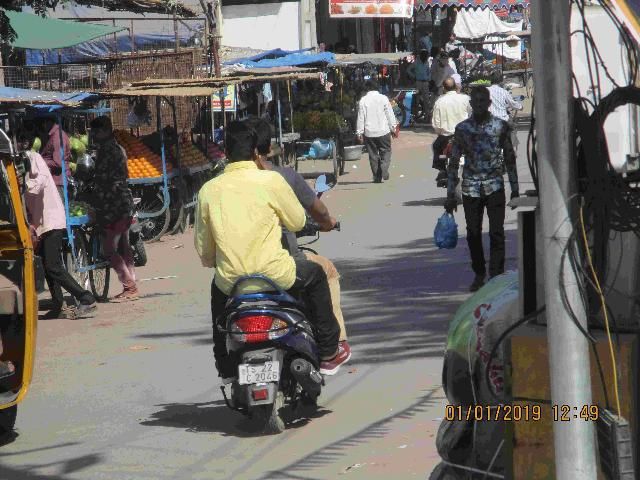motor: (217, 276, 325, 433)
non-helm: (225, 123, 259, 162), (245, 117, 273, 154), (444, 79, 458, 93)
